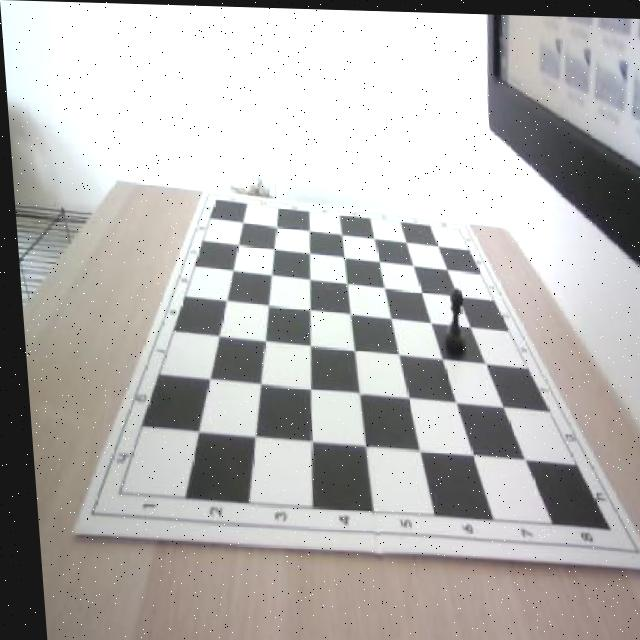black-knight: (436, 282, 463, 356)
